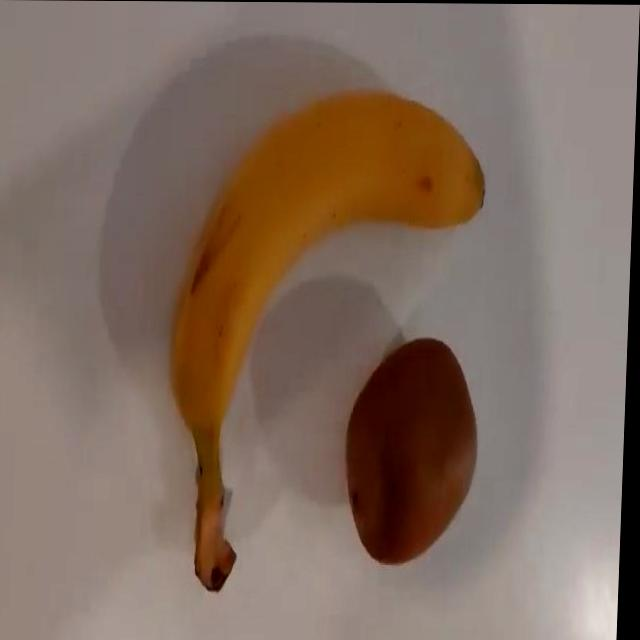Banana: (166, 86, 491, 593)
